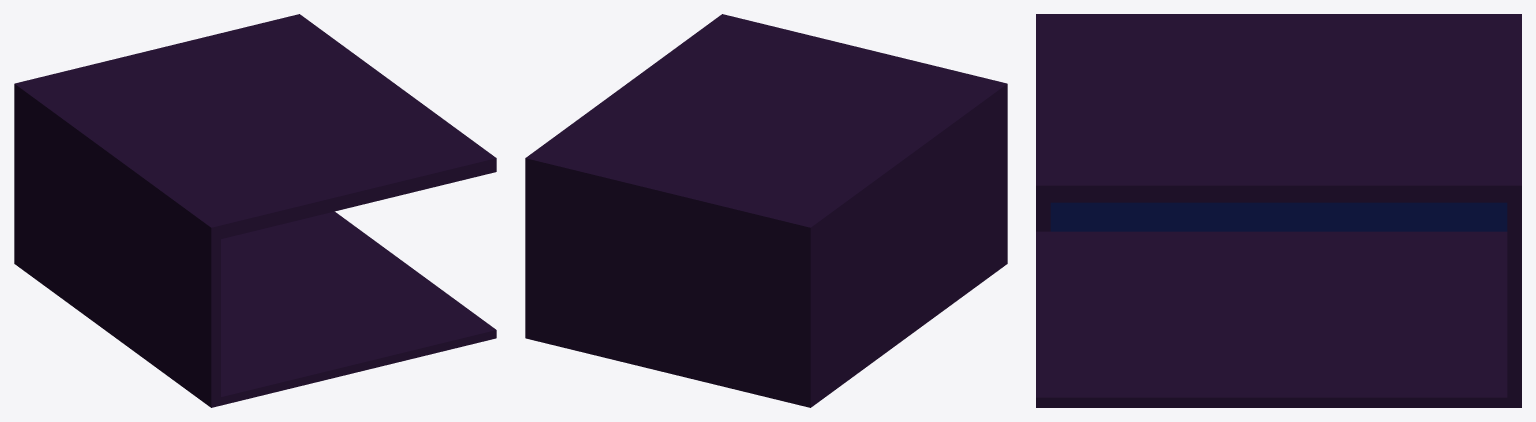
File: Wall1.fbx
The picture shows the model from 3 angles, left to right: view 1: azimuth 30°, elevation 25°; view 2: azimuth 150°, elevation 25°; view 3: azimuth 270°, elevation 25°; orthographic projection. The views are drawn at different scales.
Parts seen in each view (by area): view 1: Walls; view 2: Walls; view 3: Walls.
Part boxes in pixels (bbox=[...]): Walls: bbox=[14, 14, 496, 407]; Walls: bbox=[525, 14, 1007, 407]; Walls: bbox=[1036, 14, 1521, 407].
Bounding box in the file's own units: 7393 × 4462 × 8839.
